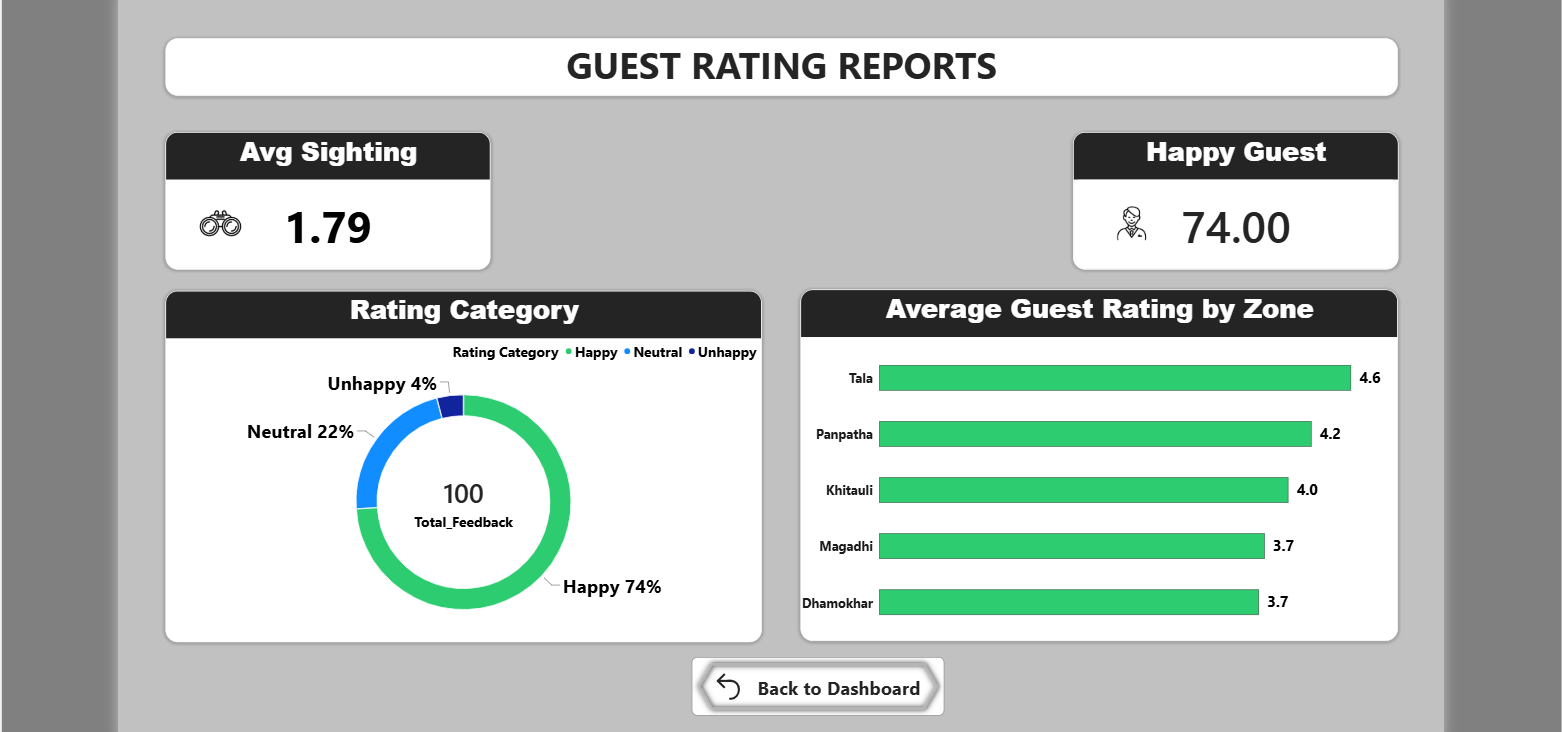

The dashboard page shown, as its layout file describes it:
{"tool":"powerbi","page":{"name":"Page 6","canvas":[1920,1080],"ordinal":5},"visuals":[{"type":"textbox","box":[68.8,67,1784.3,83.2],"z":0},{"type":"actionButton","box":[830.6,962.7,365.6,85.1],"z":1000},{"type":"card","title":"Avg Sighting","fields":{"Values":["tiger_sighting.Avg Sighting Count"]},"box":[68.8,202.7,470.5,199.1],"z":2000},{"type":"image","box":[103.2,296.8,90.5,76],"z":3000},{"type":"cardVisual","title":"Happy Guest","fields":{"Data":["safari_bookings.Happy Guests %"]},"box":[1382.6,202.7,471,199],"z":4000},{"type":"image","box":[1422.4,296.8,90.5,76],"z":5000},{"type":"donutChart","title":"Rating Category","fields":{"Category":["visitor_feedback.Rating Category"],"Y":["CountNonNull(visitor_feedback.Rating Category)"]},"box":[68.8,432.5,863.2,508.5],"z":6000},{"type":"barChart","title":"Average Guest Rating by Zone","fields":{"Category":["Dim_Zone.Zone"],"Y":["visitor_feedback.Avg Guest Rating"]},"box":[988.1,430.7,865,508.5],"z":7000}]}

Visuals, with their boxes on the page's 1920x1080 design canvas (x1, y1, x2, y2). These are canvas units, not pixel positions in the 1563x732 screenshot, which may show the page scaled, cropped or inside an application window:
textbox: box(69, 67, 1853, 150)
actionButton: box(831, 963, 1196, 1048)
"Avg Sighting" card: box(69, 203, 539, 402)
image: box(103, 297, 194, 373)
"Happy Guest" cardVisual: box(1383, 203, 1854, 402)
image: box(1422, 297, 1513, 373)
"Rating Category" donutChart: box(69, 432, 932, 941)
"Average Guest Rating by Zone" barChart: box(988, 431, 1853, 939)
